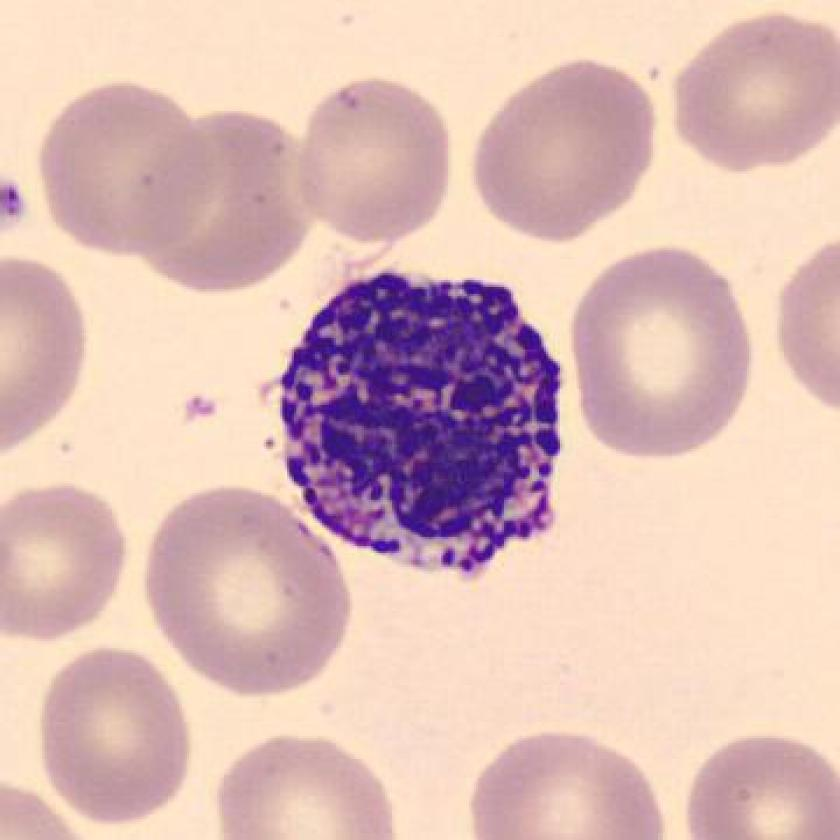basophil: (272, 256, 591, 577)
